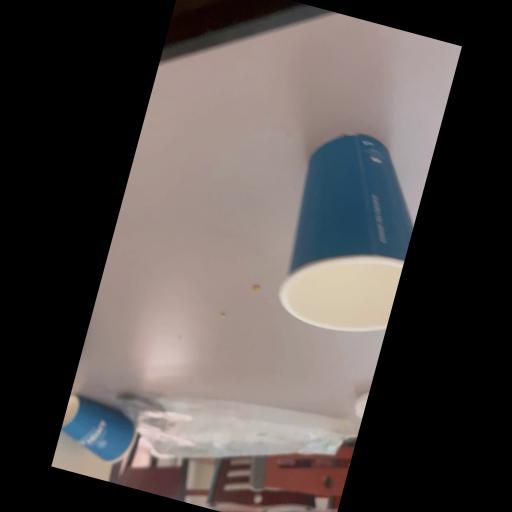lp_paper_cup: (263, 118, 434, 346), (55, 388, 145, 470)
